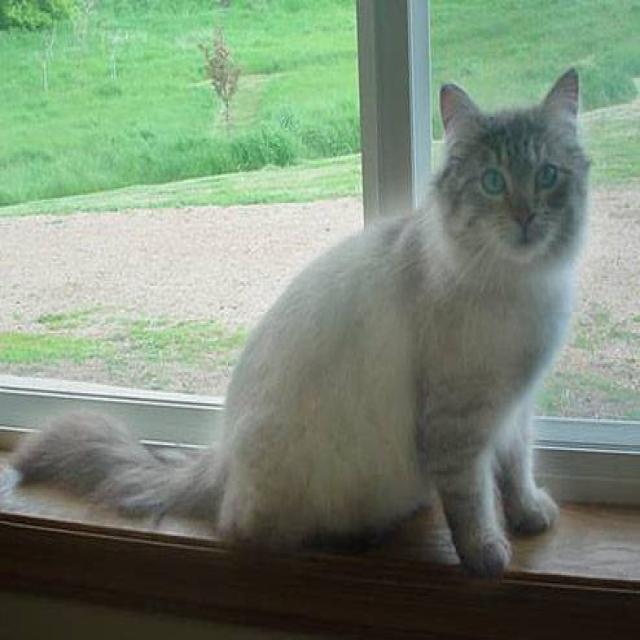cat: (0, 65, 592, 578)
